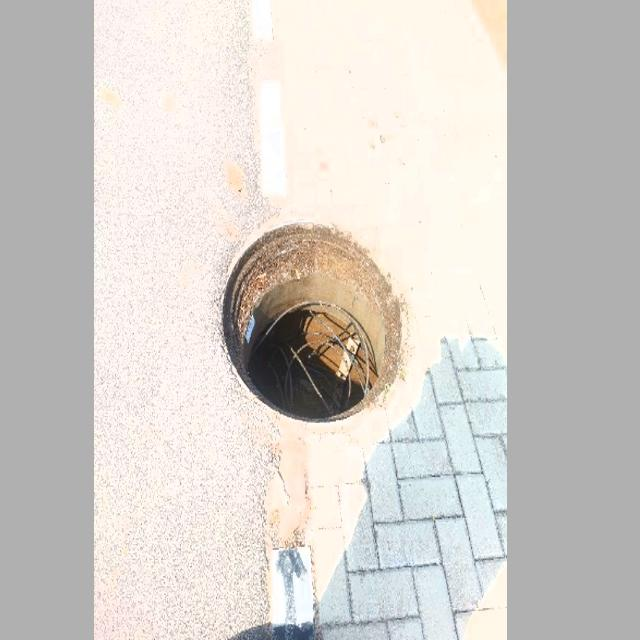lose: (220, 213, 413, 423)
